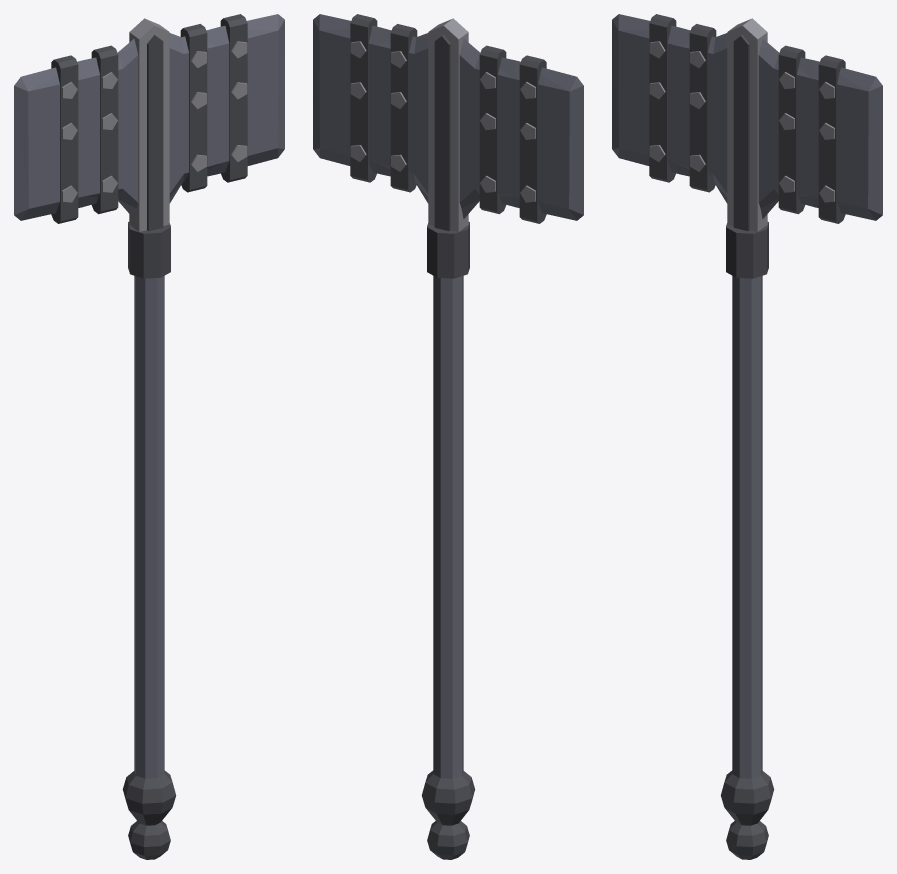
The model's file is _hammer_09.fbx.
The picture shows the model from 3 angles, left to right: view 1: azimuth 30°, elevation 25°; view 2: azimuth 150°, elevation 25°; view 3: azimuth 330°, elevation 25°; orthographic projection.
Visible parts, largest first — view 1: hammer_09; view 2: hammer_09; view 3: hammer_09.
Part boxes in pixels (x1,y1,x2,y2): hammer_09: (14, 14, 284, 859); hammer_09: (313, 14, 583, 859); hammer_09: (612, 14, 882, 859).
Bounding box in the file's own units: 28.76 × 84.86 × 5.1.
